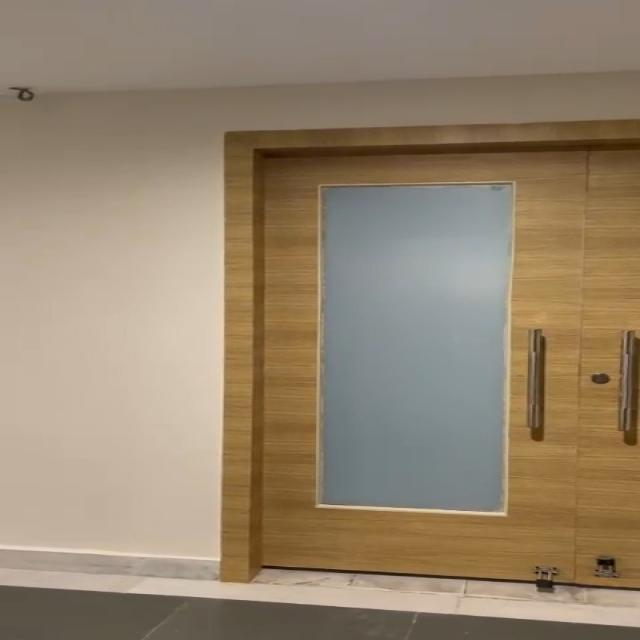door: (219, 127, 640, 575)
floor: (0, 560, 640, 639)
wall: (6, 71, 223, 548)
